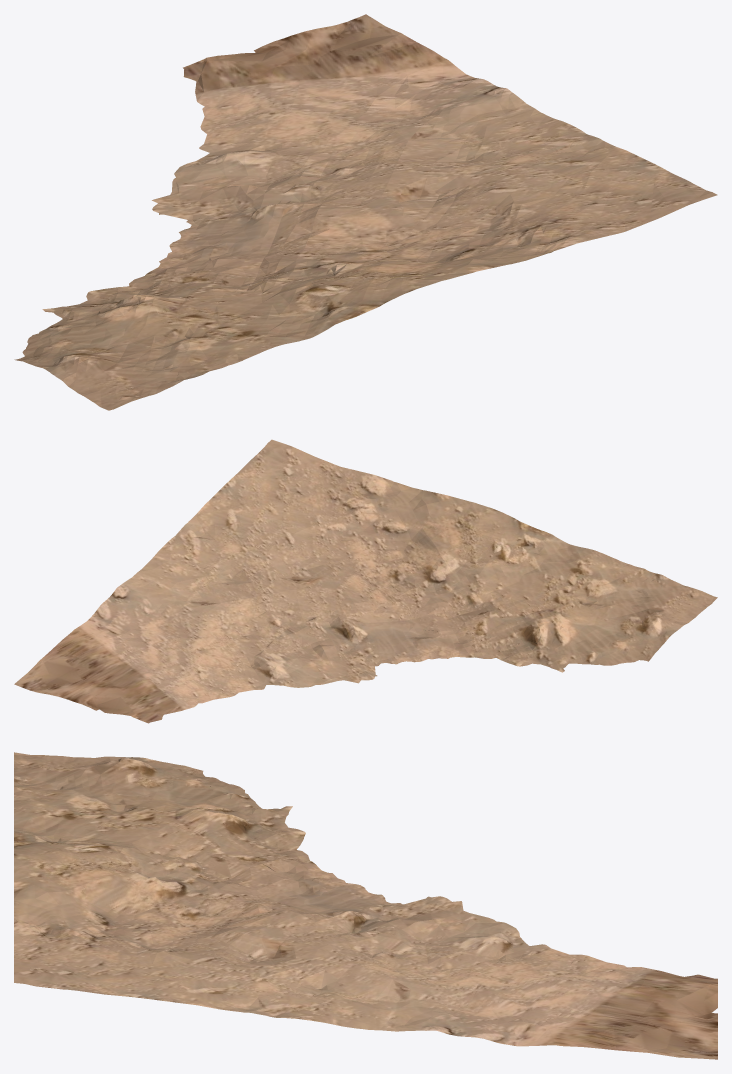
3 renders of one model, top to bottom at view 1: azimuth 30°, elevation 25°; view 2: azimuth 150°, elevation 25°; view 3: azimuth 270°, elevation 25°, orthographic. The views are drawn at different scales.
Size of the model in its own units: 4.18 by 0.56 by 4.18.
2 materials, 2 textured.
